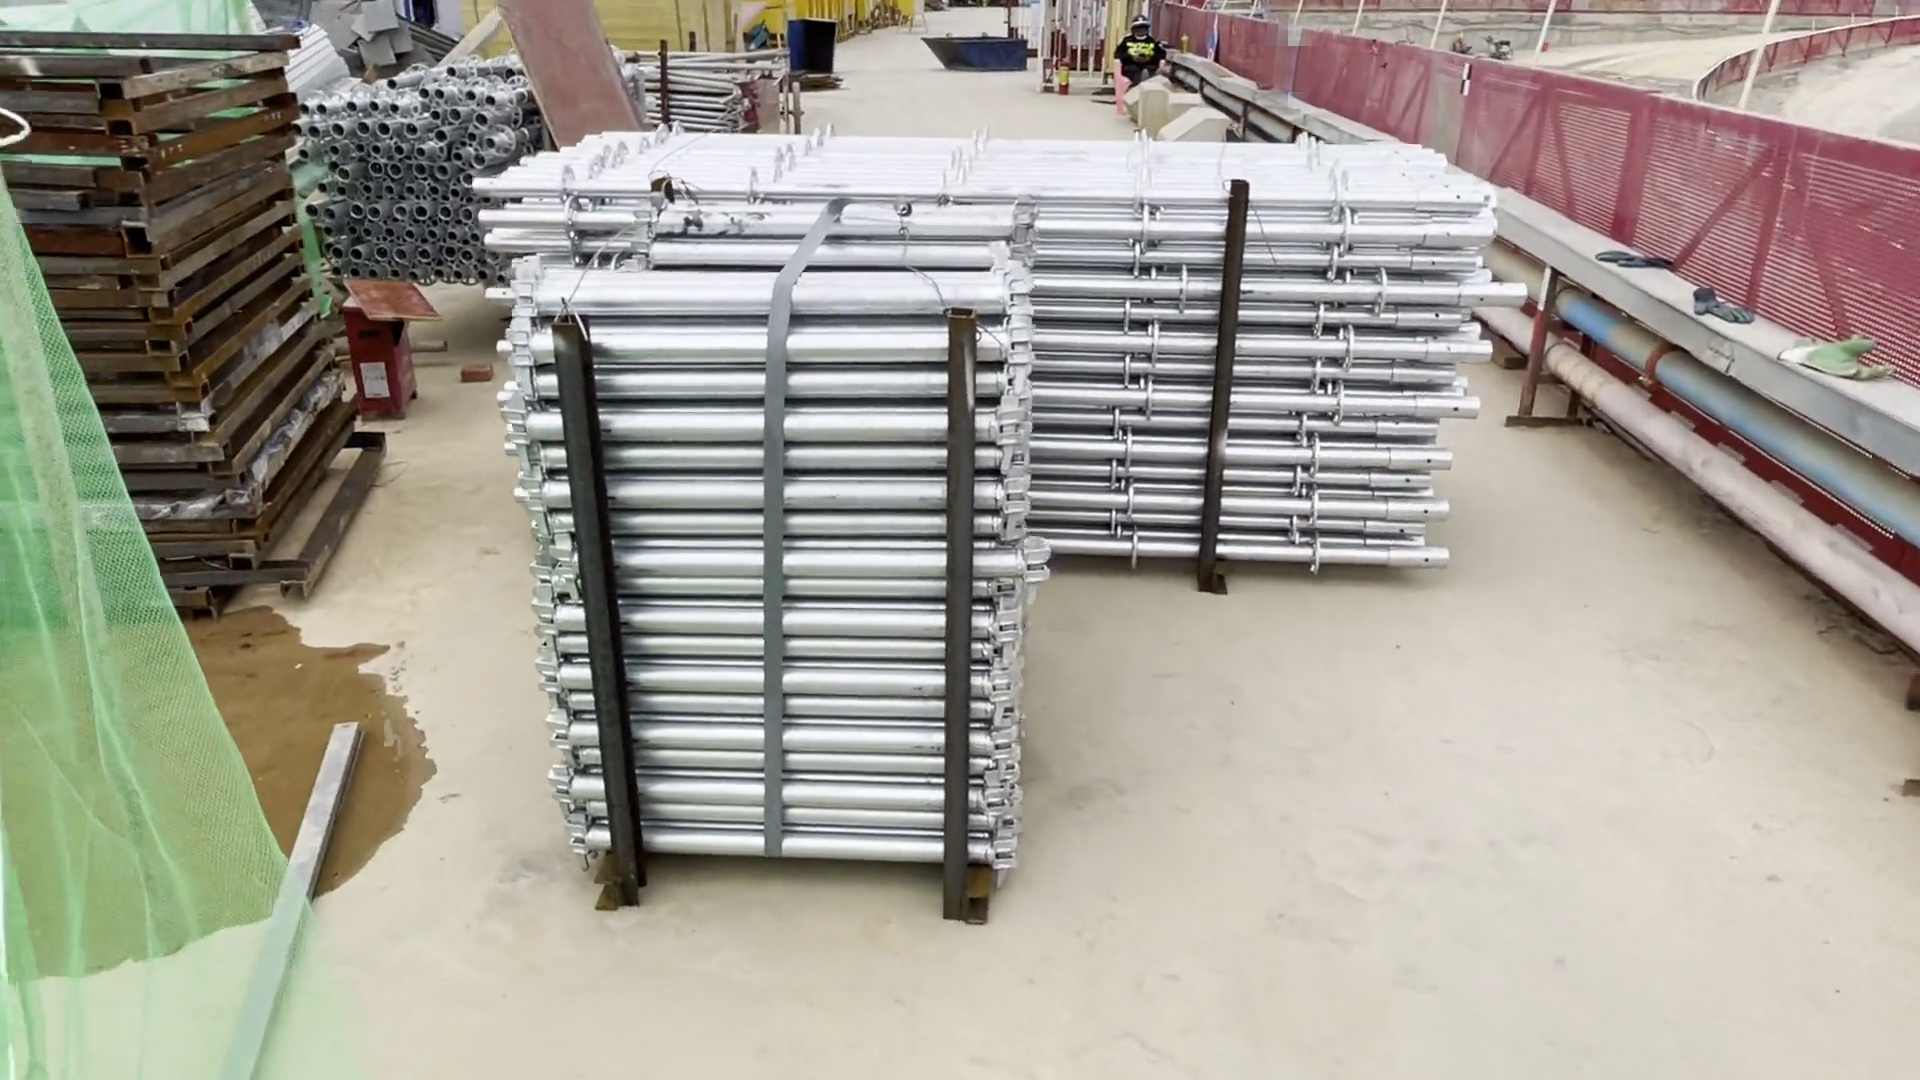fence: (1648, 90, 1920, 398), (1462, 59, 1636, 247), (1302, 26, 1468, 146), (1220, 16, 1304, 98)
scaffold: (508, 137, 1468, 585), (563, 244, 1038, 909), (282, 61, 516, 294)
